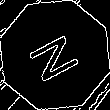N_NE: (23, 26, 87, 84)
